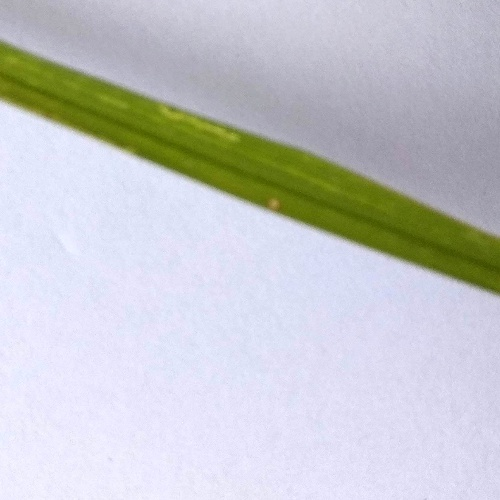Busuk Leher: (153, 100, 238, 143), (258, 192, 288, 216)
